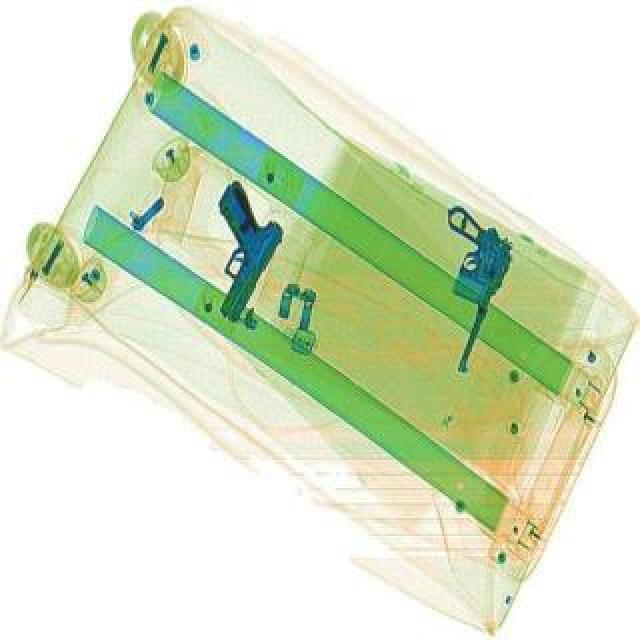gun: (394, 202, 526, 374), (166, 178, 296, 324)
